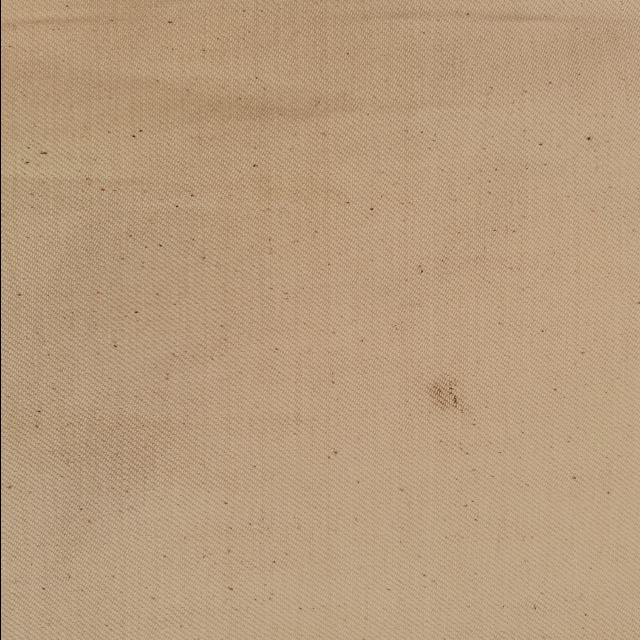taaaches: (409, 373, 489, 420)
